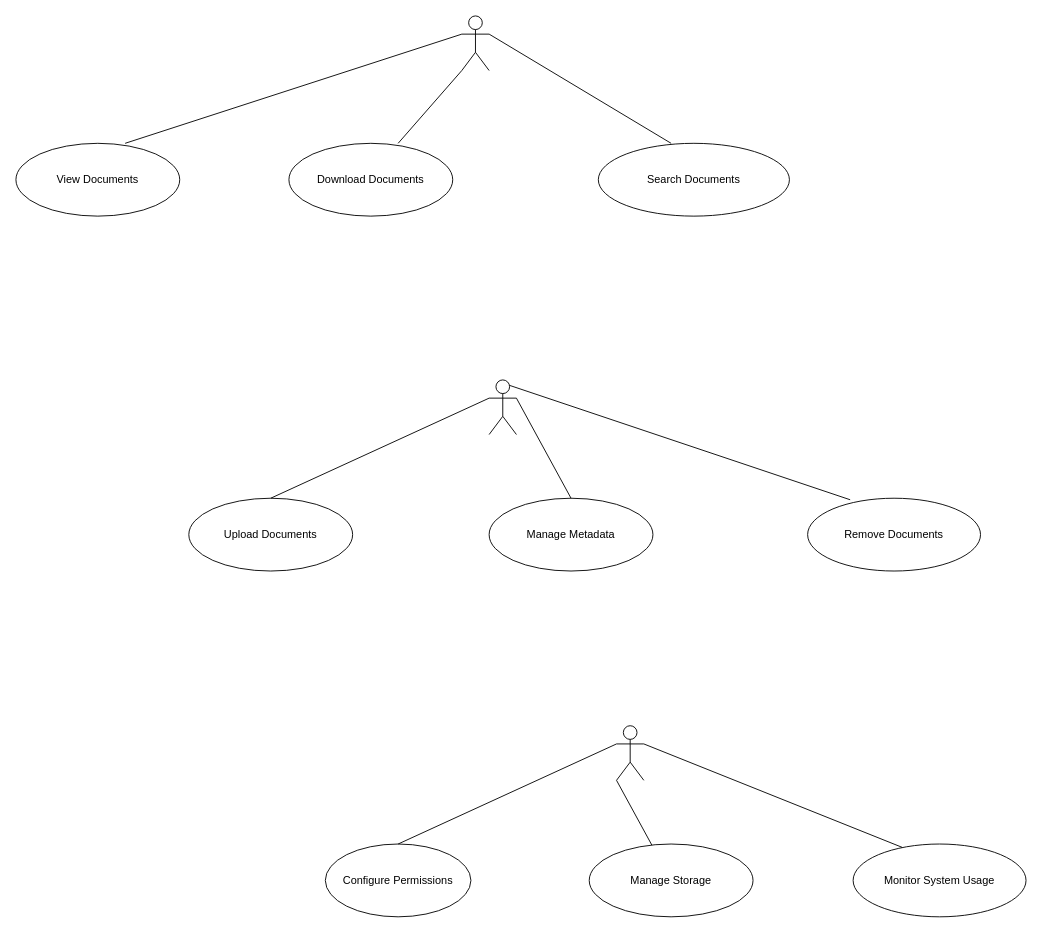
Image size: 1042x933. Some labels were removed from this diagram. The box of each missing label's shape, as (x1, y1, x2, y2) in pixels:
Admin: (616, 725, 644, 780)
Student: (461, 15, 489, 71)
Teacher: (488, 379, 516, 435)
